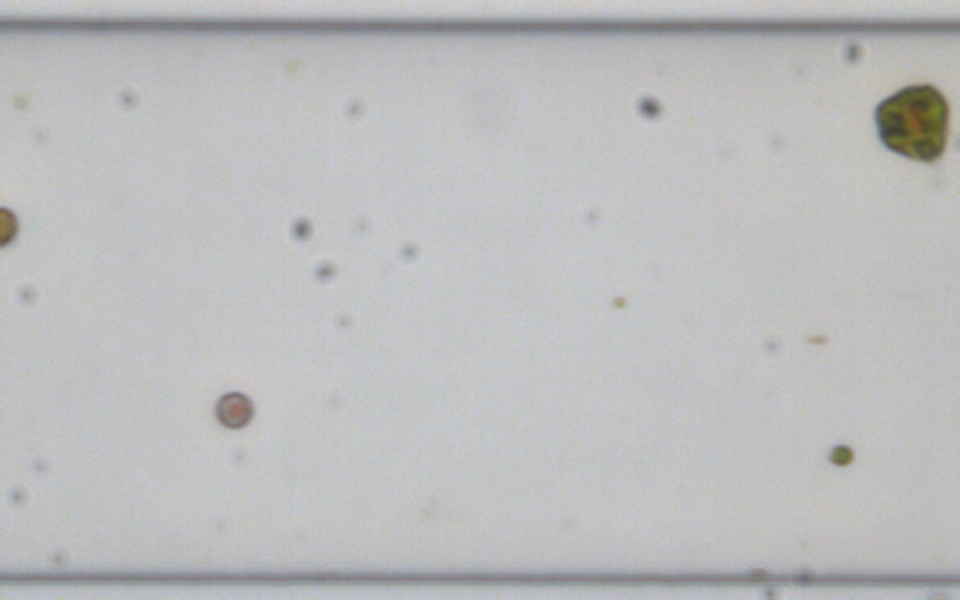Chlorella: (828, 443, 853, 466), (610, 294, 625, 309)
Dunaliella salina: (800, 332, 831, 345)
Haematococcus: (869, 79, 950, 165)
Porphyridium: (213, 388, 253, 429)
